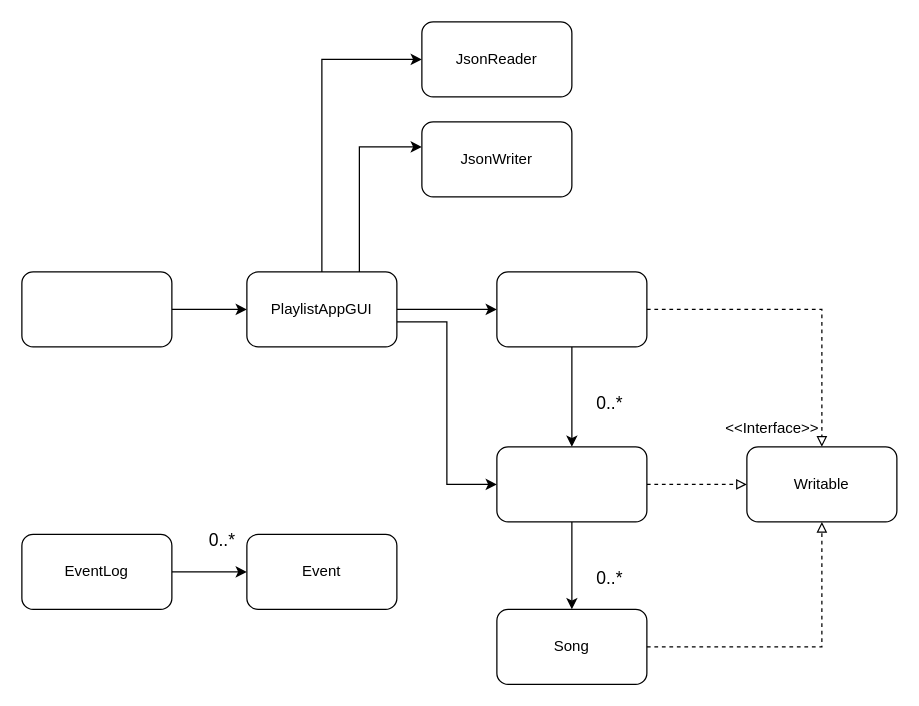
This 919x706 diagram has some shape labels left out. Here are the shapes that lost their labels. From the top down, the box of each, then its label:
(21, 271, 172, 347): Main
(496, 271, 647, 347): Account
(496, 446, 647, 522): Playlist
